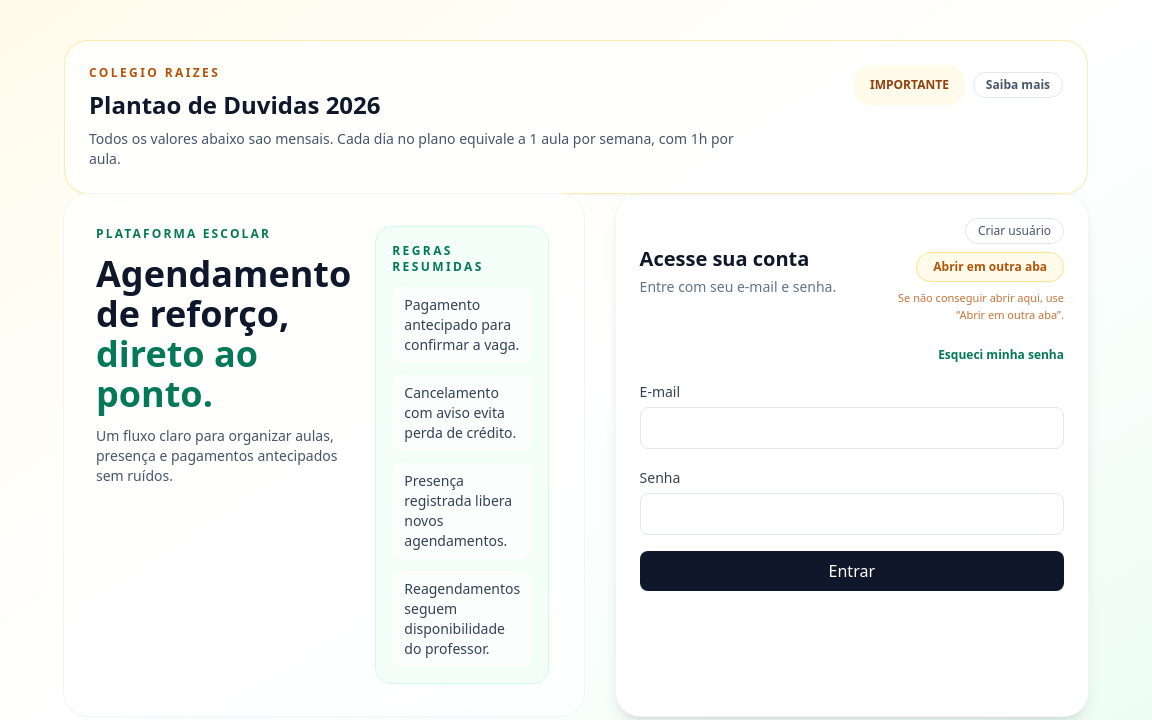
Test: LoginPage › shows error when credentials invalid
In the field labelled "E-mail": (852, 428) 640,407 -> 1064,449, type "user@example.com"
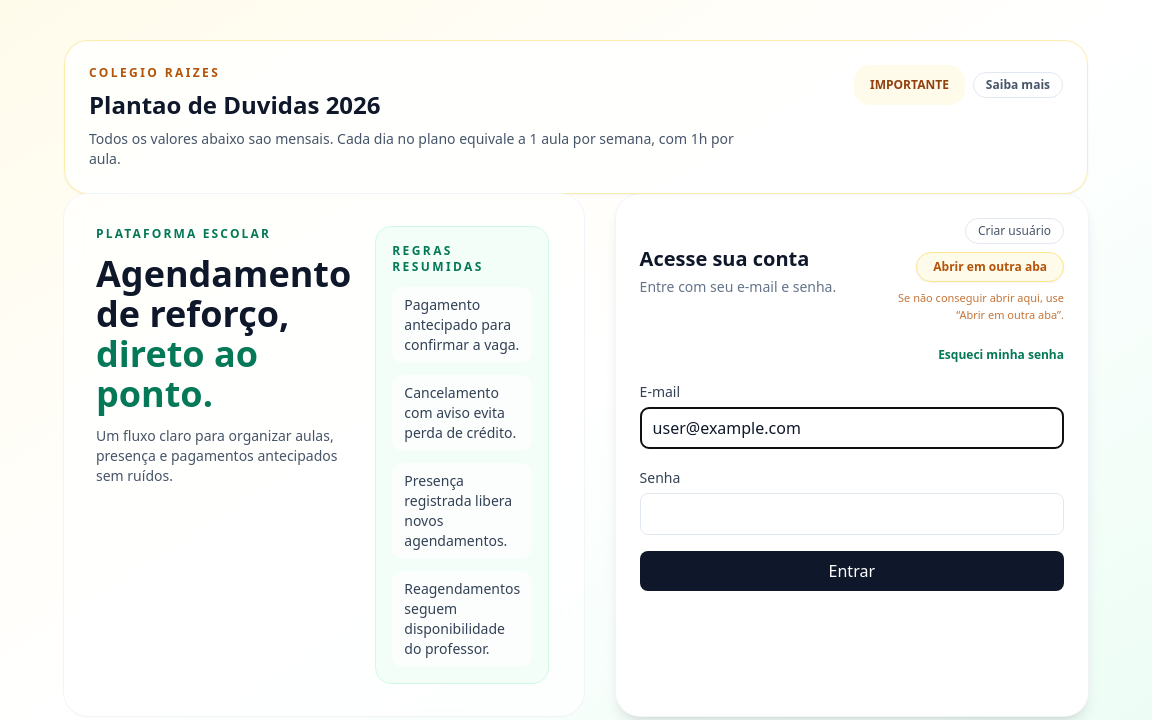
In the password field labelled "Senha": (852, 514) 640,493 -> 1064,535, type "123"
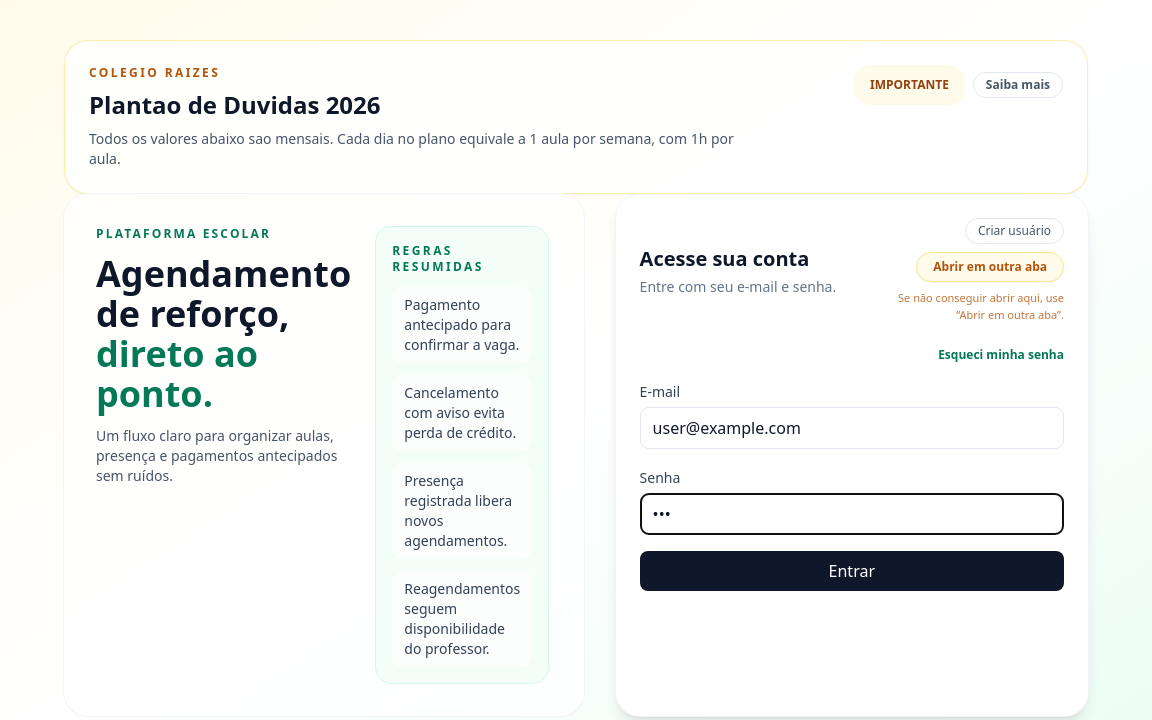
Click the button "Entrar": (852, 571) 640,551 -> 1064,591
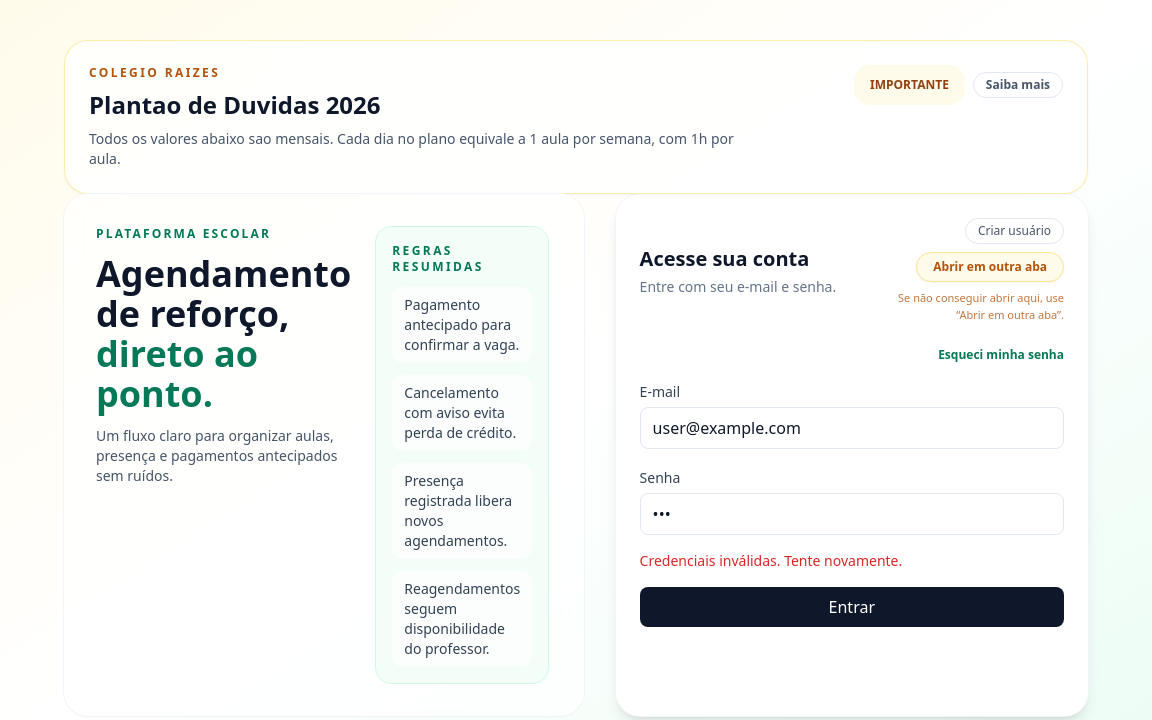
Expected: the text "Credenciais inválidas. Tente novamente." is shown, 640,551 -> 902,570
